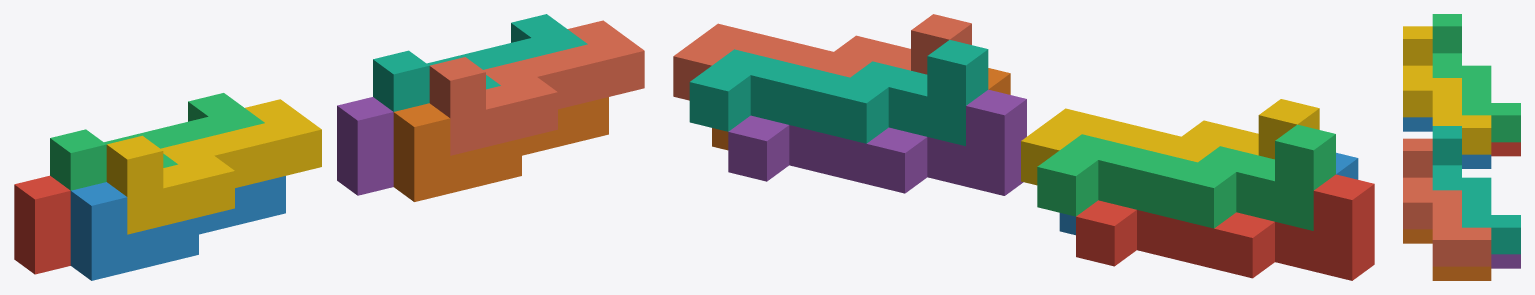
The model's file is tiling.obj.
3 views of the same model, side by side, from view 1: azimuth 30°, elevation 25°; view 2: azimuth 150°, elevation 25°; view 3: azimuth 270°, elevation 25° (orthographic). The views are drawn at different scales.
Parts seen in each view (by area): view 1: copy_1_domain_4, copy_1_domain_8, copy_1_domain_2, copy_1_domain_6, copy_1_domain_3, copy_1_domain_7, copy_1_domain_1, copy_1_domain_5; view 2: copy_1_domain_7, copy_1_domain_3, copy_1_domain_1, copy_1_domain_5, copy_1_domain_4, copy_1_domain_8, copy_1_domain_2, copy_1_domain_6; view 3: copy_1_domain_8, copy_1_domain_4, copy_1_domain_7, copy_1_domain_3, copy_1_domain_6, copy_1_domain_2, copy_1_domain_1, copy_1_domain_5.
Part boxes in pixels (box(x1,y1,x2,y2)): copy_1_domain_4: box(106, 99, 321, 234); copy_1_domain_8: box(429, 20, 644, 155); copy_1_domain_2: box(70, 176, 285, 280); copy_1_domain_6: box(393, 97, 608, 201); copy_1_domain_3: box(50, 93, 264, 190); copy_1_domain_7: box(373, 14, 587, 111); copy_1_domain_1: box(14, 175, 70, 274); copy_1_domain_5: box(337, 97, 393, 195); copy_1_domain_7: box(689, 40, 988, 146); copy_1_domain_3: box(1037, 124, 1335, 230); copy_1_domain_1: box(1076, 174, 1374, 280); copy_1_domain_5: box(728, 89, 1026, 195); copy_1_domain_4: box(1021, 99, 1319, 185); copy_1_domain_8: box(673, 14, 971, 100); copy_1_domain_2: box(1059, 152, 1358, 235); copy_1_domain_6: box(712, 68, 1010, 150); copy_1_domain_8: box(1403, 138, 1491, 266); copy_1_domain_4: box(1403, 26, 1491, 154); copy_1_domain_7: box(1432, 126, 1520, 254); copy_1_domain_3: box(1432, 14, 1520, 142); copy_1_domain_6: box(1403, 229, 1491, 280); copy_1_domain_2: box(1403, 117, 1491, 168); copy_1_domain_1: box(1491, 142, 1520, 156); copy_1_domain_5: box(1491, 254, 1520, 268).
Bounding box in the file's own units: 17 × 3 × 4.
